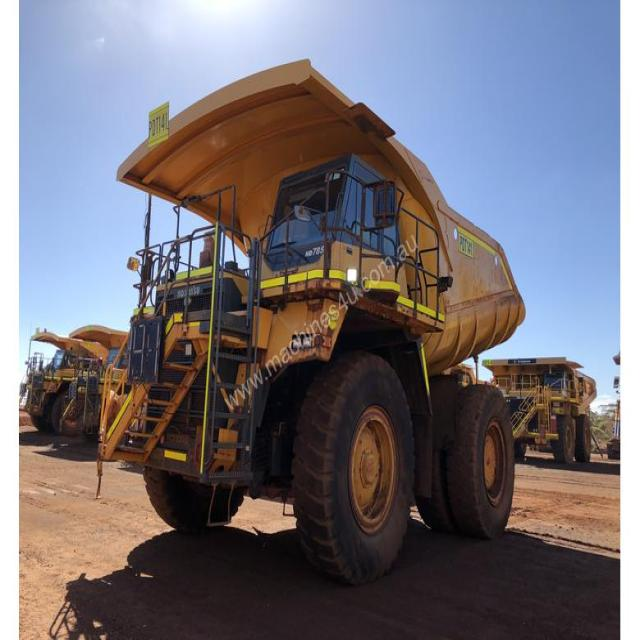dump_truck: (112, 54, 535, 574)
